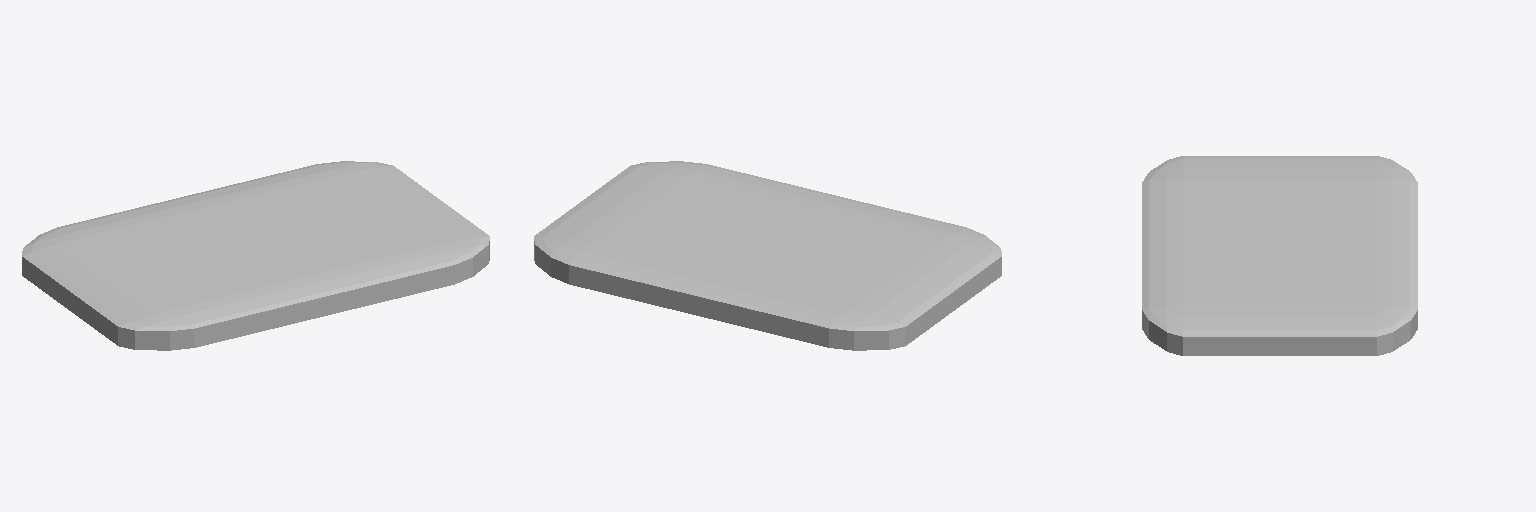
Rendered from stand.obj.
The picture shows the model from 3 angles: view 1: azimuth 30°, elevation 25°; view 2: azimuth 150°, elevation 25°; view 3: azimuth 270°, elevation 25°; orthographic projection.
Parts seen in each view (by area): view 1: stand_Cube; view 2: stand_Cube; view 3: stand_Cube.
Boxes of the visible parts, <box> form: stand_Cube: <box>22,161,489,350</box>; stand_Cube: <box>534,161,1001,350</box>; stand_Cube: <box>1142,156,1417,355</box>.
Bounding box in the file's own units: 2.8 × 0.2 × 1.8.